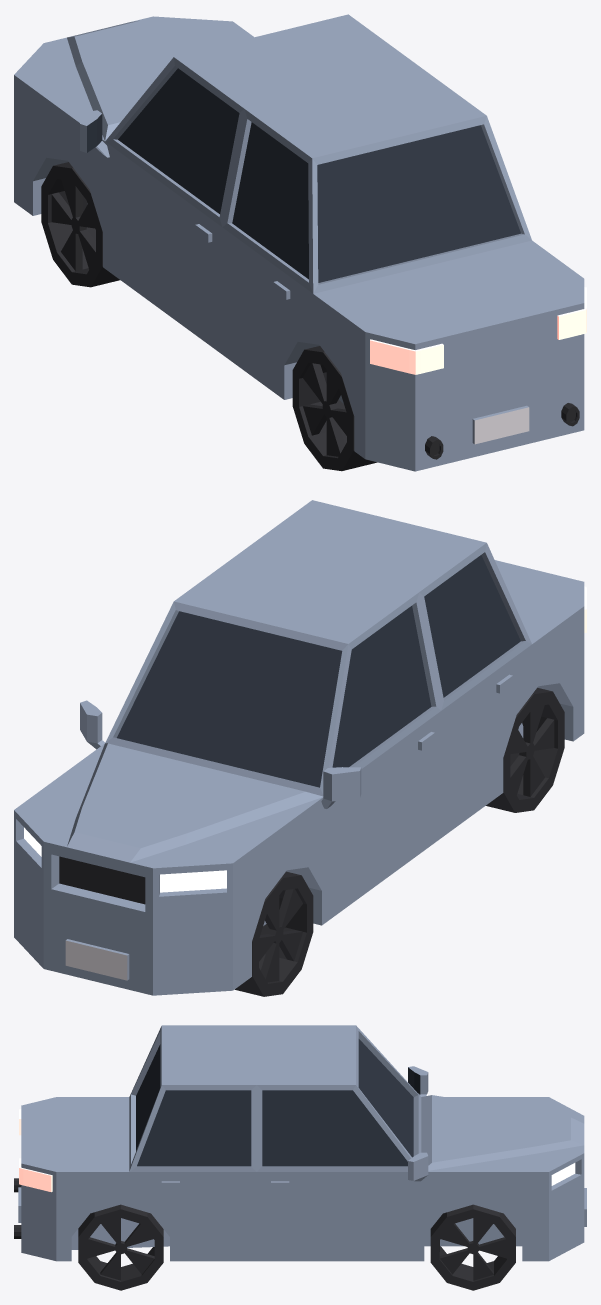
Rendered from rv_sedan.glb.
The picture shows the model from 3 angles, top to bottom: view 1: azimuth 30°, elevation 25°; view 2: azimuth 150°, elevation 25°; view 3: azimuth 270°, elevation 25°; orthographic projection. The views are drawn at different scales.
Parts seen in each view (by area): view 1: Body, WheelRL, WheelFL; view 2: Body, WheelFL, WheelRL; view 3: Body, WheelFR, WheelRR.
Part boxes in pixels (x1,y1,x2,y2): Body: [14, 14, 586, 471]; WheelRL: [292, 346, 377, 471]; WheelFL: [41, 162, 119, 287]; Body: [14, 500, 586, 995]; WheelFL: [235, 871, 313, 996]; WheelRL: [486, 687, 564, 812]; Body: [14, 1025, 586, 1261]; WheelFR: [430, 1204, 515, 1290]; WheelRR: [78, 1204, 163, 1290].
Size of the model in its own units: 1.86 by 1.81 by 4.7.
